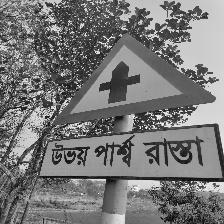Crossroad: (43, 41, 224, 200)
